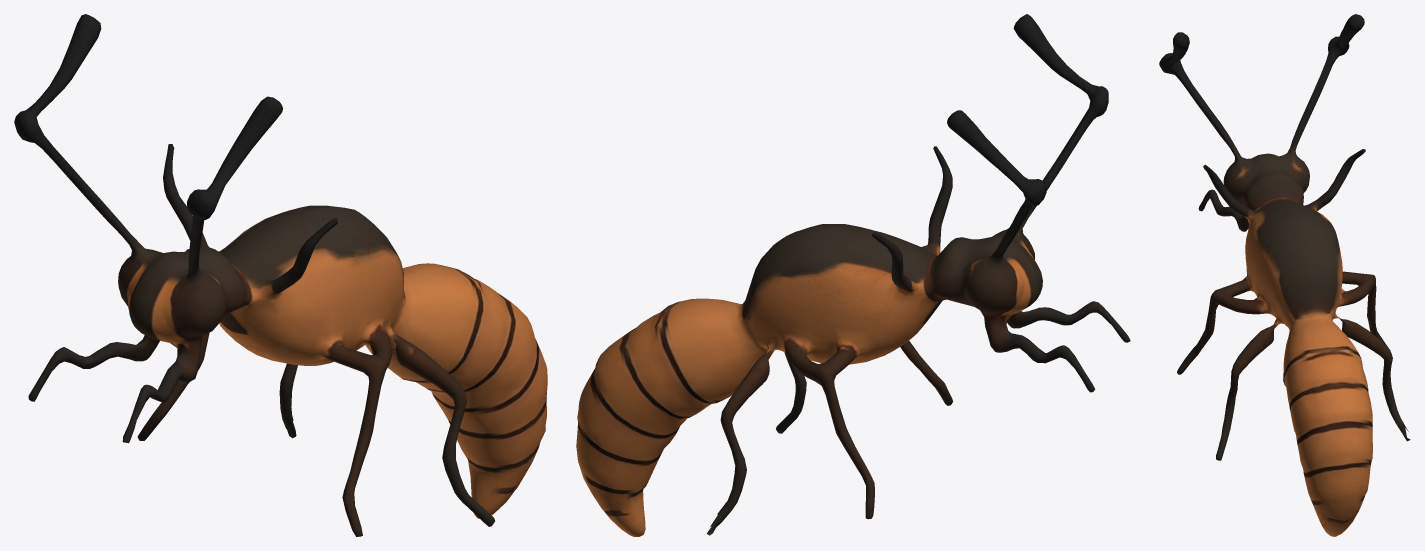
Rendered from mariposaCuerpo.obj.
3 renders of one model, left to right at view 1: azimuth 30°, elevation 25°; view 2: azimuth 150°, elevation 25°; view 3: azimuth 270°, elevation 25°, orthographic. The views are drawn at different scales.
Visible parts, largest first — view 1: cuerpo; view 2: cuerpo; view 3: cuerpo.
Boxes of the visible parts, x1,y1,x2,y2 form: cuerpo: (14,14,547,536); cuerpo: (576,14,1130,536); cuerpo: (1159,14,1410,536).
Size of the model in its own units: 0.0403 by 0.0414 by 0.0238.
Materials: 1 (1 with a texture image).
